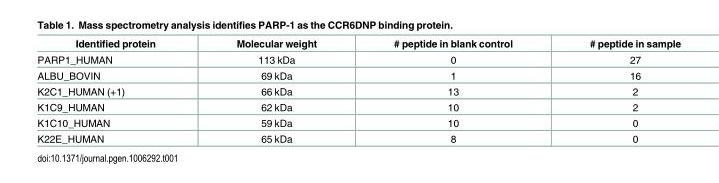table: (36, 36, 680, 143)
table column: (354, 36, 550, 143), (36, 36, 195, 143), (195, 36, 354, 143), (550, 36, 680, 143)
table column header: (36, 36, 680, 51)
table row: (36, 51, 680, 67), (36, 82, 680, 98), (36, 98, 680, 114), (36, 114, 680, 130), (36, 36, 680, 51), (36, 67, 680, 82), (36, 130, 680, 143)
